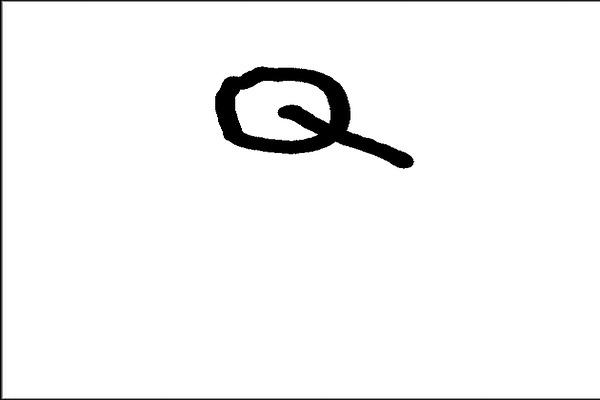Q: (193, 50, 426, 177)
